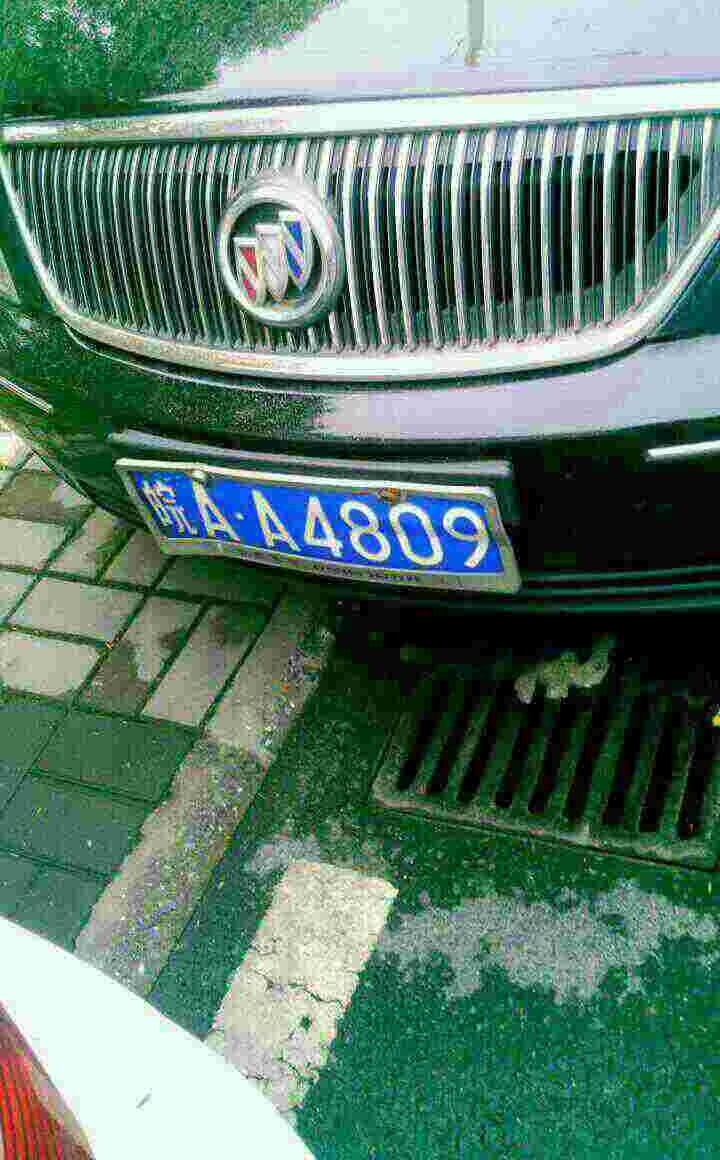license_plate: (138, 460, 491, 582)
